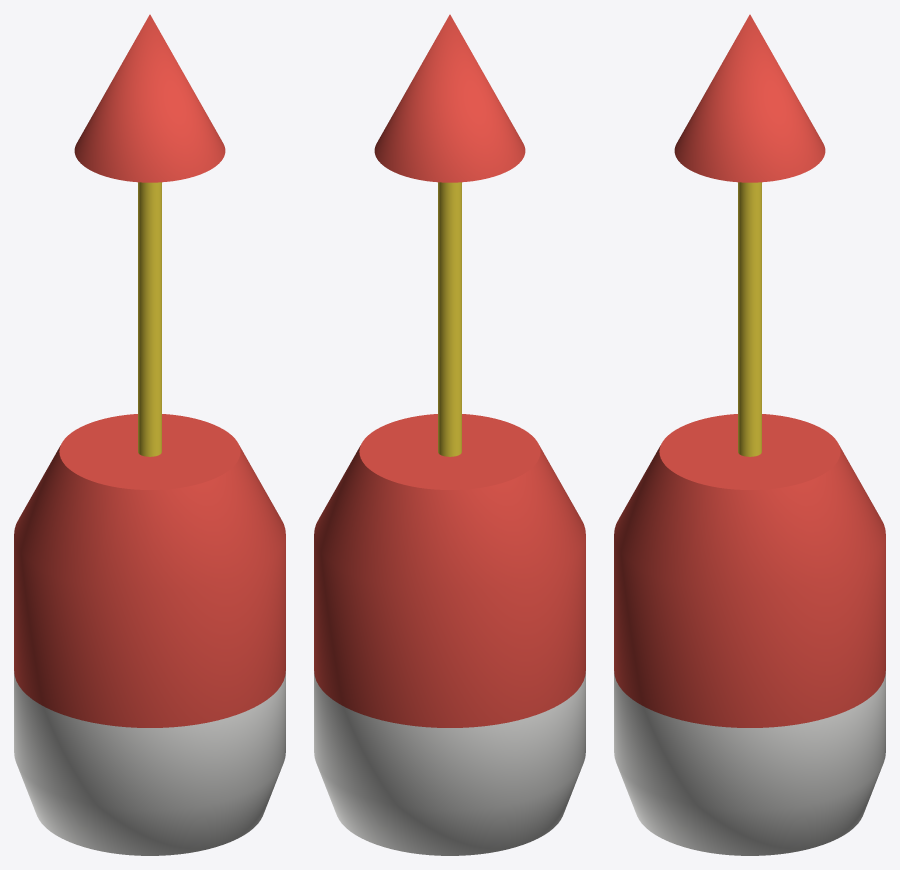
Rendered from buoy.glb.
3 renders of one model, left to right at view 1: azimuth 30°, elevation 25°; view 2: azimuth 150°, elevation 25°; view 3: azimuth 270°, elevation 25°, orthographic.
Visible parts, largest first — view 1: hull_up, hull_low, topmark, mast; view 2: hull_up, hull_low, topmark, mast; view 3: hull_up, hull_low, topmark, mast.
Boxes of the visible parts, x1,y1,x2,y2 form: hull_up: [14, 414, 285, 727]; hull_low: [14, 671, 285, 855]; topmark: [74, 14, 225, 182]; mast: [138, 182, 161, 456]; hull_up: [314, 414, 585, 727]; hull_low: [314, 671, 585, 855]; topmark: [374, 14, 525, 182]; mast: [438, 182, 461, 456]; hull_up: [614, 414, 885, 727]; hull_low: [614, 671, 885, 855]; topmark: [674, 14, 825, 182]; mast: [738, 182, 761, 456].
Bounding box in the file's own units: 0.9 × 2.9 × 0.9.
